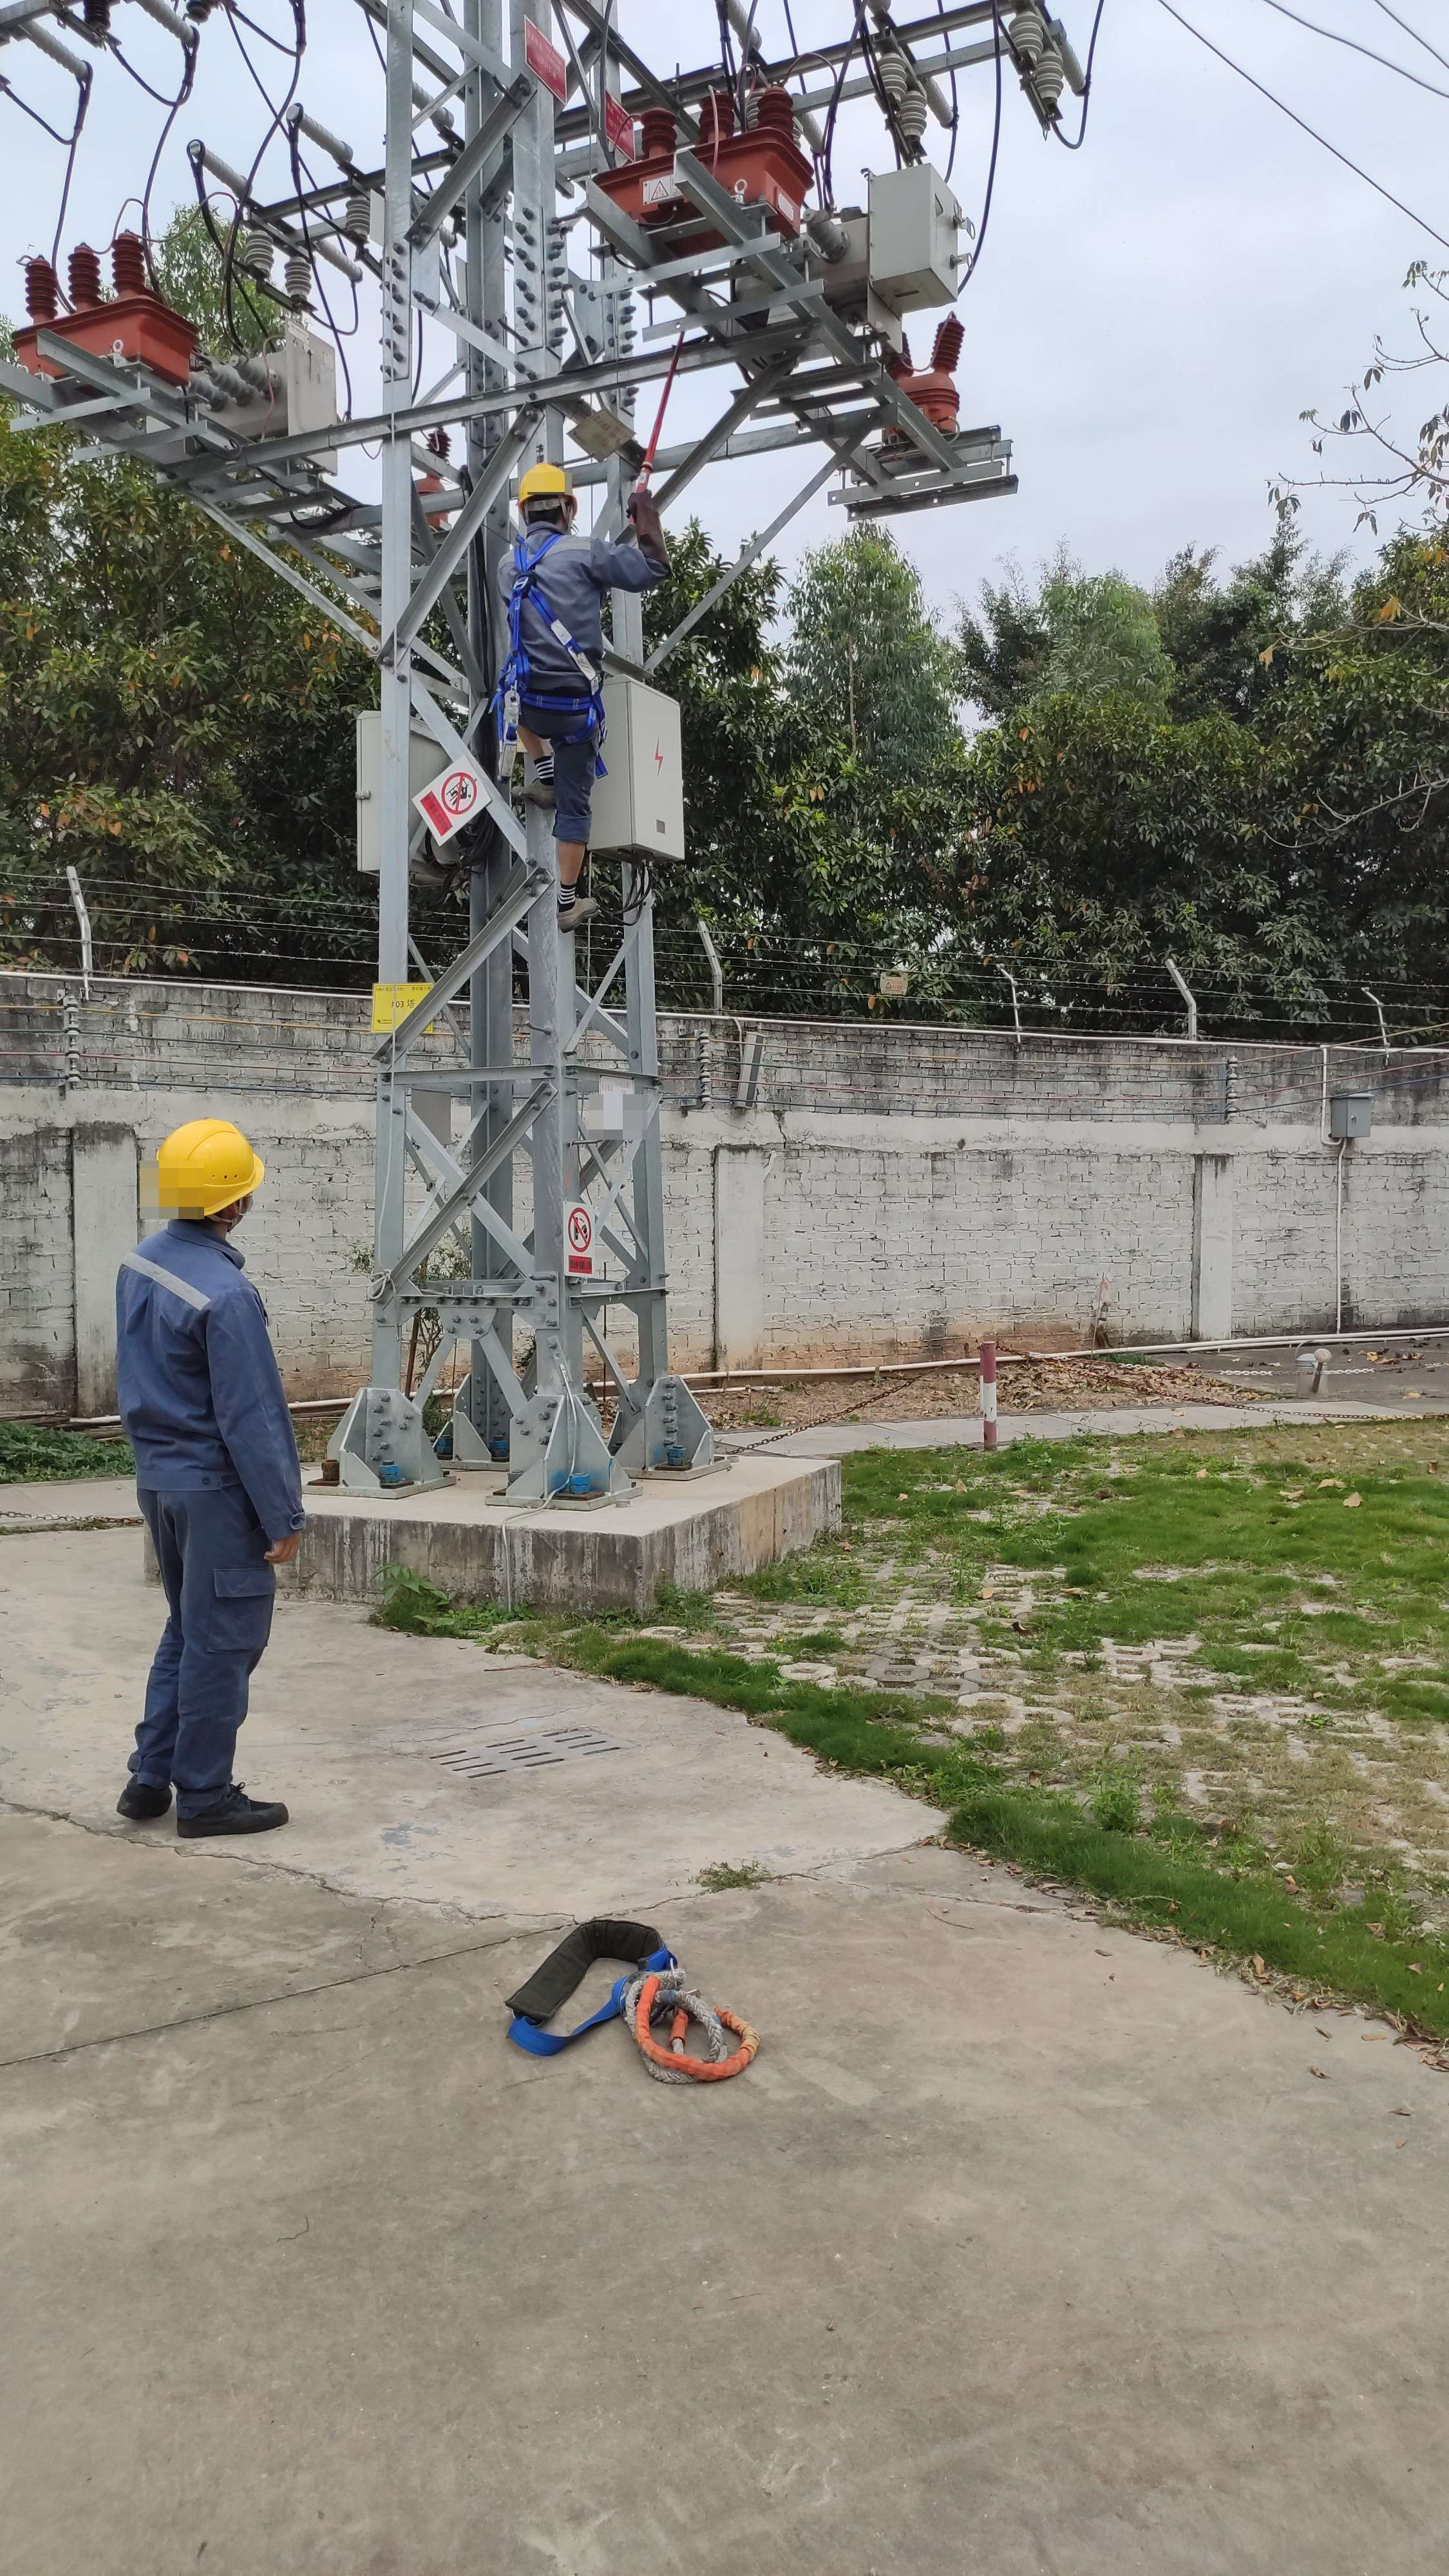downsuit: (124, 1516, 292, 1805), (511, 702, 607, 842)
upsuit: (110, 1224, 304, 1491), (501, 529, 655, 685)
wrongbottom: (550, 812, 596, 901), (513, 720, 552, 770)
